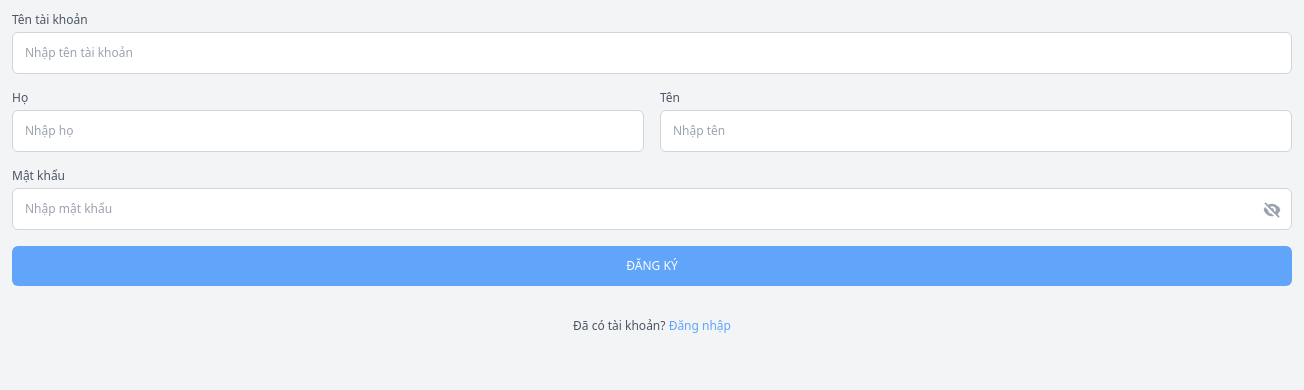
it: Test Component <FormSignUp /> › Render Component <FormSignUp /> with empty input submit
The width and height of the screenshot is (1304, 390).
What coordinates should you click on to do the following:
click the button with test id "form-signup-button"
I would click on:
 (652, 266)
Its box is top-left (12, 246), bottom-right (1292, 286).
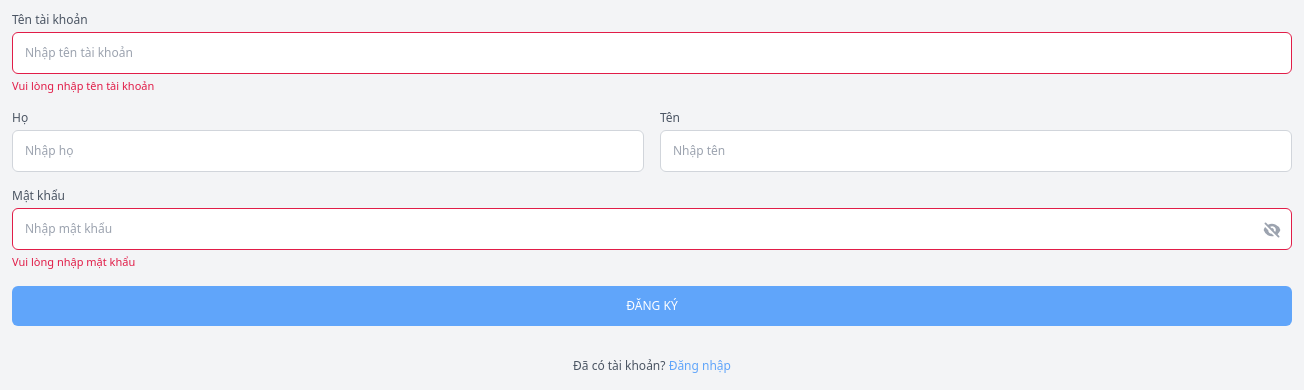
Expected: the text with test id "input-username-error" reads "Vui lòng nhập tên tài khoản", top-left (12, 78), bottom-right (154, 93)
Expected: the text with test id "input-password-error" reads "Vui lòng nhập mật khẩu", top-left (12, 254), bottom-right (135, 269)
